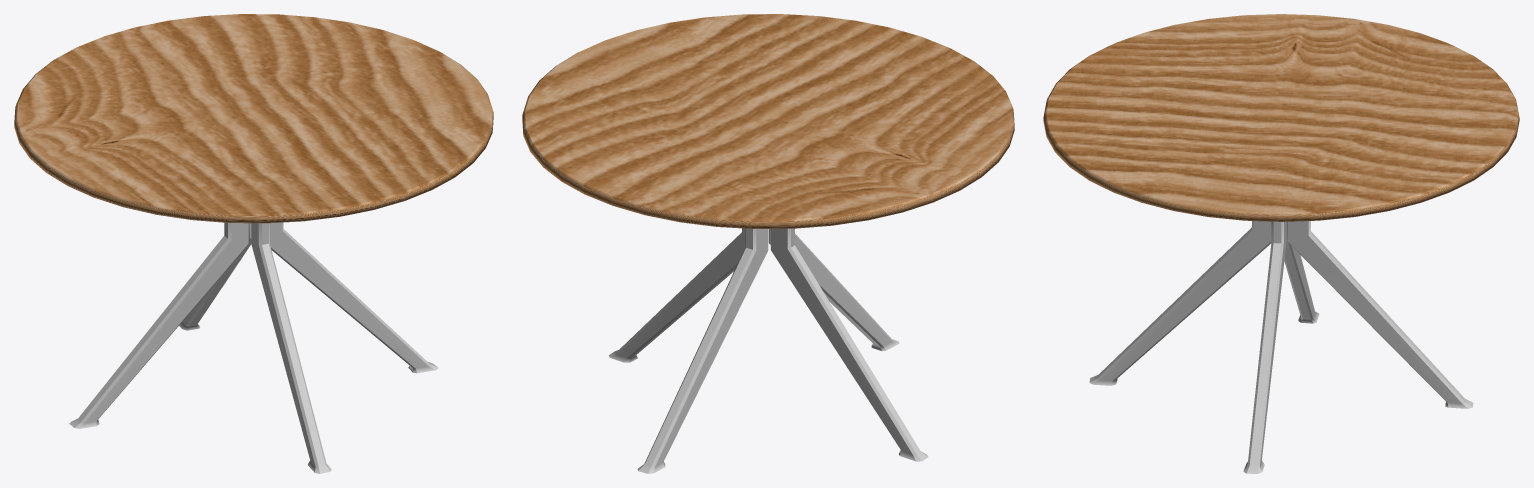
The model's file is SM_TableWood.fbx.
3 views of the same model, side by side, from view 1: azimuth 30°, elevation 25°; view 2: azimuth 150°, elevation 25°; view 3: azimuth 270°, elevation 25° (orthographic). The views are drawn at different scales.
Visible parts, largest first — view 1: SM_TableWood_LOD0; view 2: SM_TableWood_LOD0; view 3: SM_TableWood_LOD0.
Part boxes in pixels (left/top/right/bottom): SM_TableWood_LOD0: left=14, top=14, right=493, bottom=473; SM_TableWood_LOD0: left=522, top=14, right=1014, bottom=473; SM_TableWood_LOD0: left=1043, top=14, right=1519, bottom=473.
Size of the model in its own units: 115 by 115 by 74.85.
2 materials, 1 textured.
